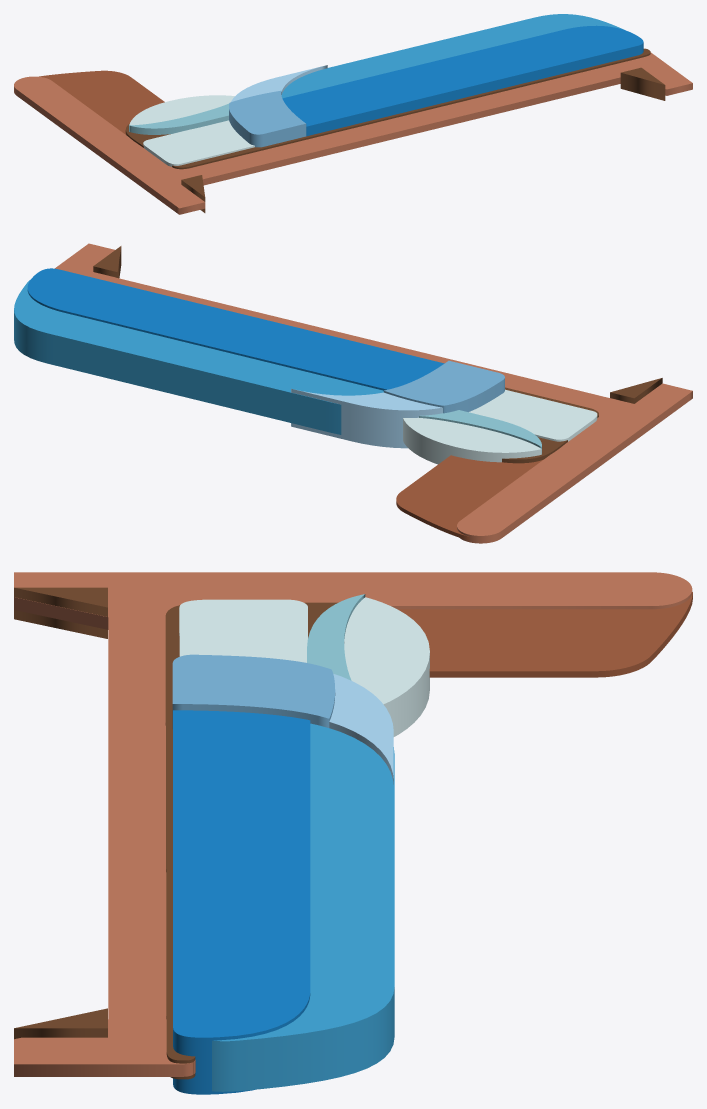
File: emoji_u1f6cf.glb
3 views of the same model, one above another, from view 1: azimuth 30°, elevation 25°; view 2: azimuth 150°, elevation 25°; view 3: azimuth 270°, elevation 25° (orthographic). The views are drawn at different scales.
Parts seen in each view (by area): view 1: emoji_u1f6cf; view 2: emoji_u1f6cf; view 3: emoji_u1f6cf.
Boxes of the visible parts, x1=… form: emoji_u1f6cf: x1=14, y1=14, x2=692, y2=214; emoji_u1f6cf: x1=14, y1=243, x2=692, y2=543; emoji_u1f6cf: x1=14, y1=572, x2=692, y2=1094.
Bounding box in the file's own units: 0.0334 × 0.0022 × 0.0195.
